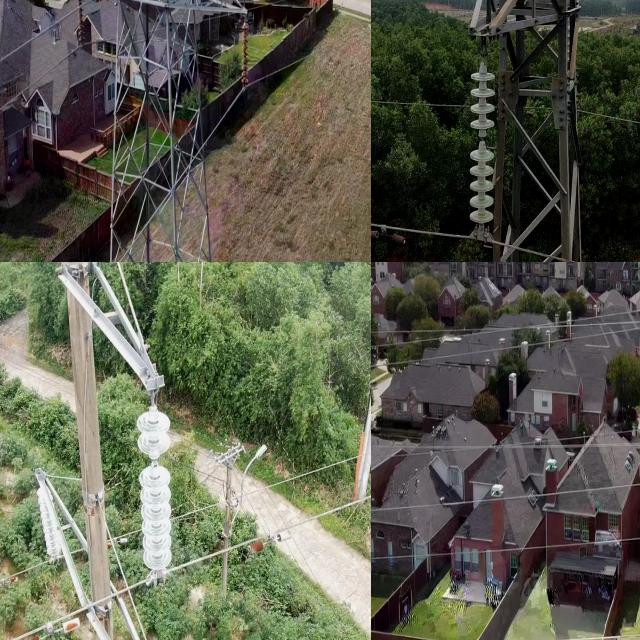杆塔: (24, 262, 217, 640), (81, 0, 253, 262), (465, 0, 596, 262)
正常电缆: (371, 91, 472, 113)
正常绝缘子: (127, 392, 184, 584), (466, 55, 500, 260), (36, 471, 54, 566), (238, 9, 254, 101), (73, 0, 89, 58)
绝缘子破损: (148, 456, 161, 467), (478, 132, 487, 146)
